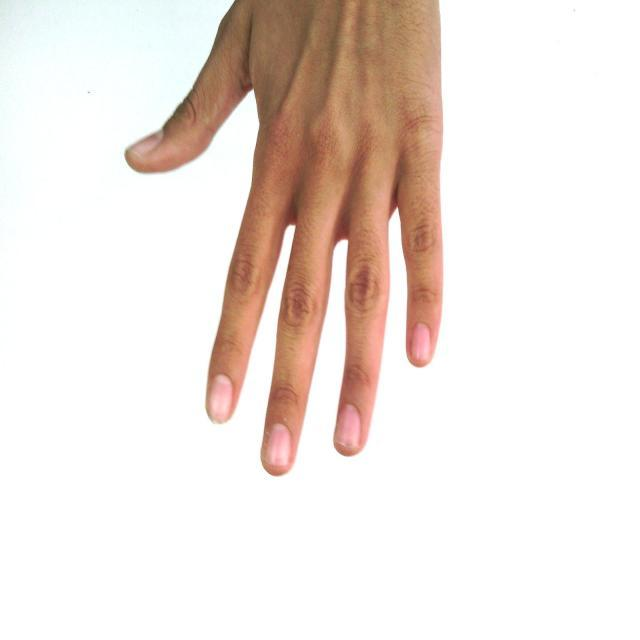Fingernail: (209, 375, 233, 423), (338, 405, 361, 449), (267, 425, 291, 467), (127, 132, 162, 158), (413, 323, 431, 361)
